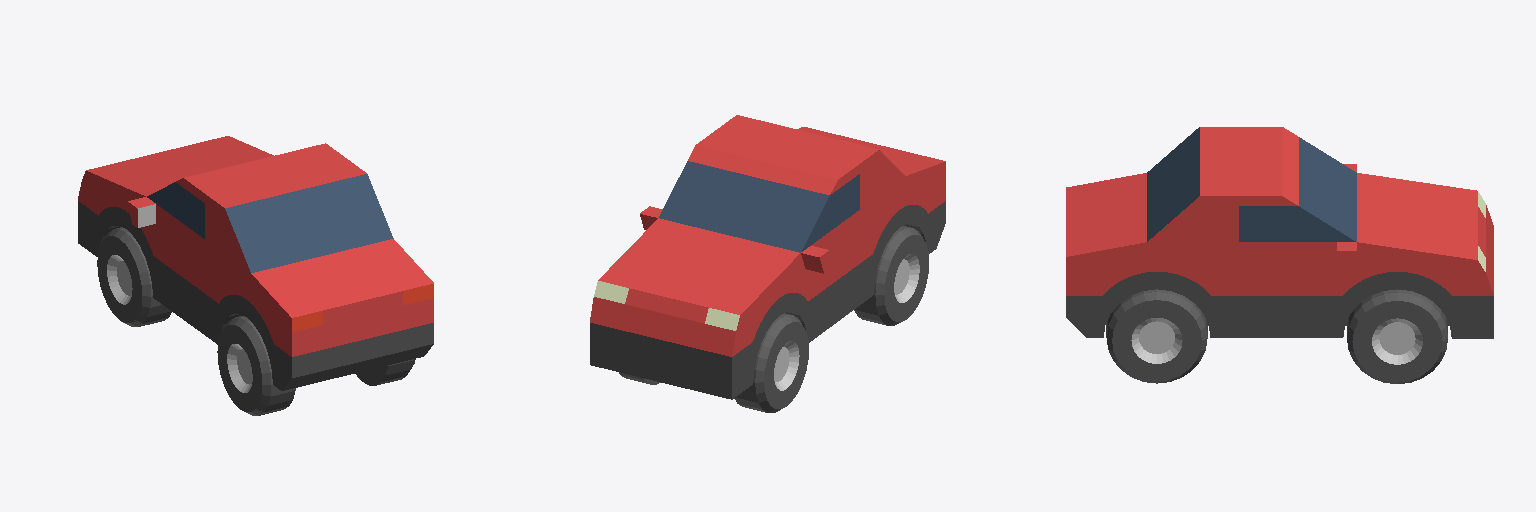
File: carSedan.obj
3 views of the same model, side by side, from view 1: azimuth 30°, elevation 25°; view 2: azimuth 150°, elevation 25°; view 3: azimuth 270°, elevation 25° (orthographic).
Visible parts, largest first — view 1: body 7, wheelBackLeft 7, wheelFrontLeft 7, wheelBackRight 7; view 2: body 7, wheelBackLeft 7, wheelFrontLeft 7; view 3: body 7, wheelFrontRight 7, wheelBackRight 7.
Boxes of the visible parts, <box> form: body 7: <box>78,136,433,390</box>; wheelBackLeft 7: <box>217,316,295,415</box>; wheelFrontLeft 7: <box>97,227,171,326</box>; wheelBackRight 7: <box>355,359,415,385</box>; body 7: <box>590,115,945,399</box>; wheelBackLeft 7: <box>854,226,928,325</box>; wheelFrontLeft 7: <box>734,313,808,412</box>; body 7: <box>1066,127,1493,338</box>; wheelFrontRight 7: <box>1347,289,1447,383</box>; wheelBackRight 7: <box>1106,289,1207,383</box>.
Size of the model in its own units: 9.2 by 9.22 by 18.96.